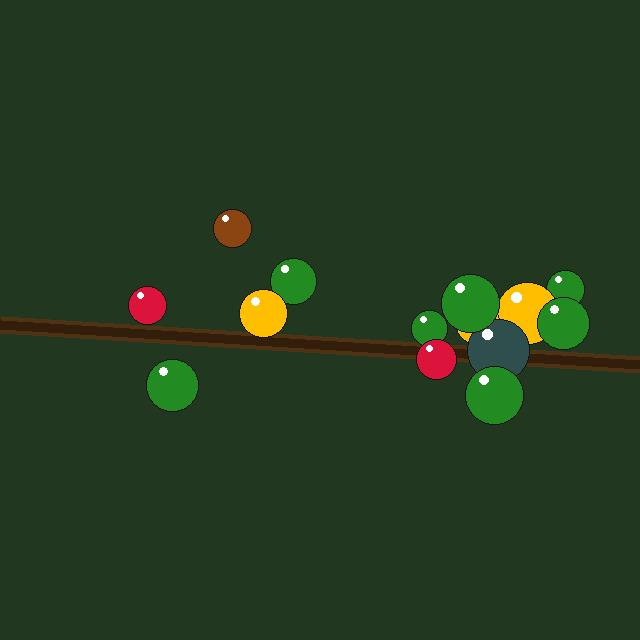Dry_Damaged: (467, 319, 529, 381)
Overripe: (213, 209, 251, 247)
Ripe: (416, 339, 456, 379), (128, 286, 166, 324)
Ripening: (496, 282, 558, 344), (239, 289, 287, 337), (455, 300, 499, 344)
Unripe: (441, 274, 499, 332), (465, 366, 523, 424), (146, 359, 198, 411), (537, 297, 589, 349), (270, 258, 316, 304), (546, 270, 584, 308), (411, 310, 447, 346)
